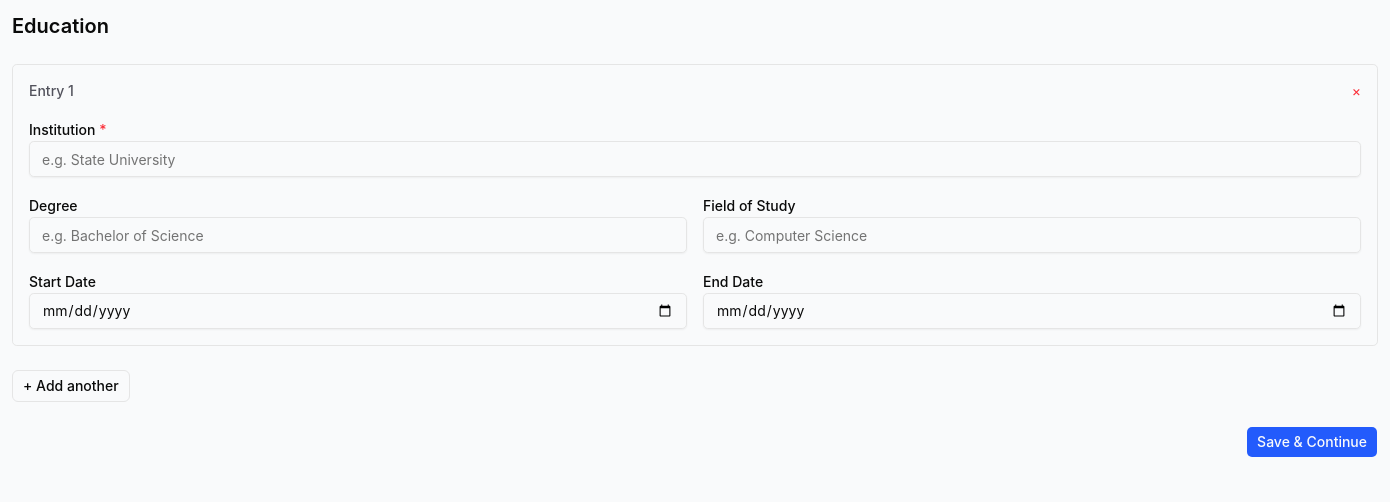
EducationStep › blur on empty institution renders text-red-600 error below the field
This screenshot has width=1390, height=502.
Click the field with placeholder "e.g. State University". click: [695, 159]
box: [29,141,1361,177]
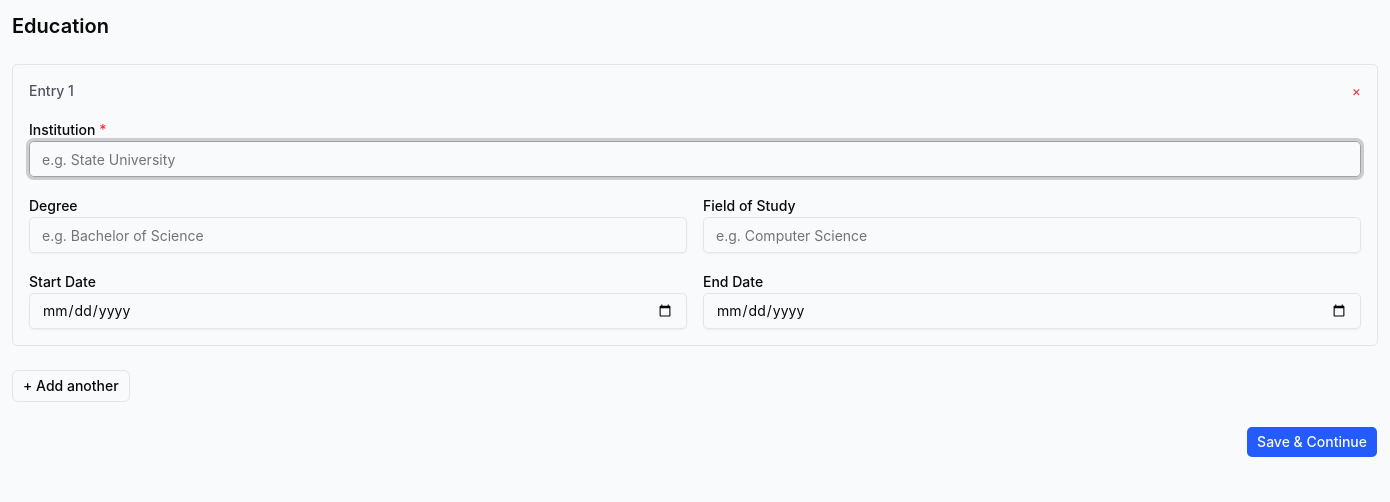
Press Tab
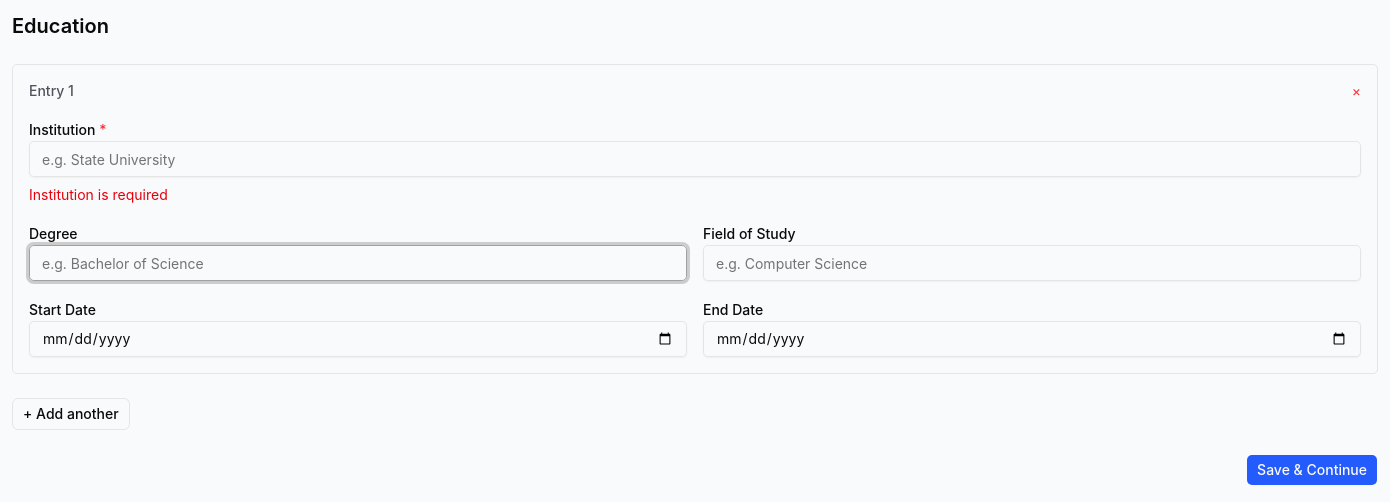
Now the text "Institution is required" is shown, box [29,186,168,203]
